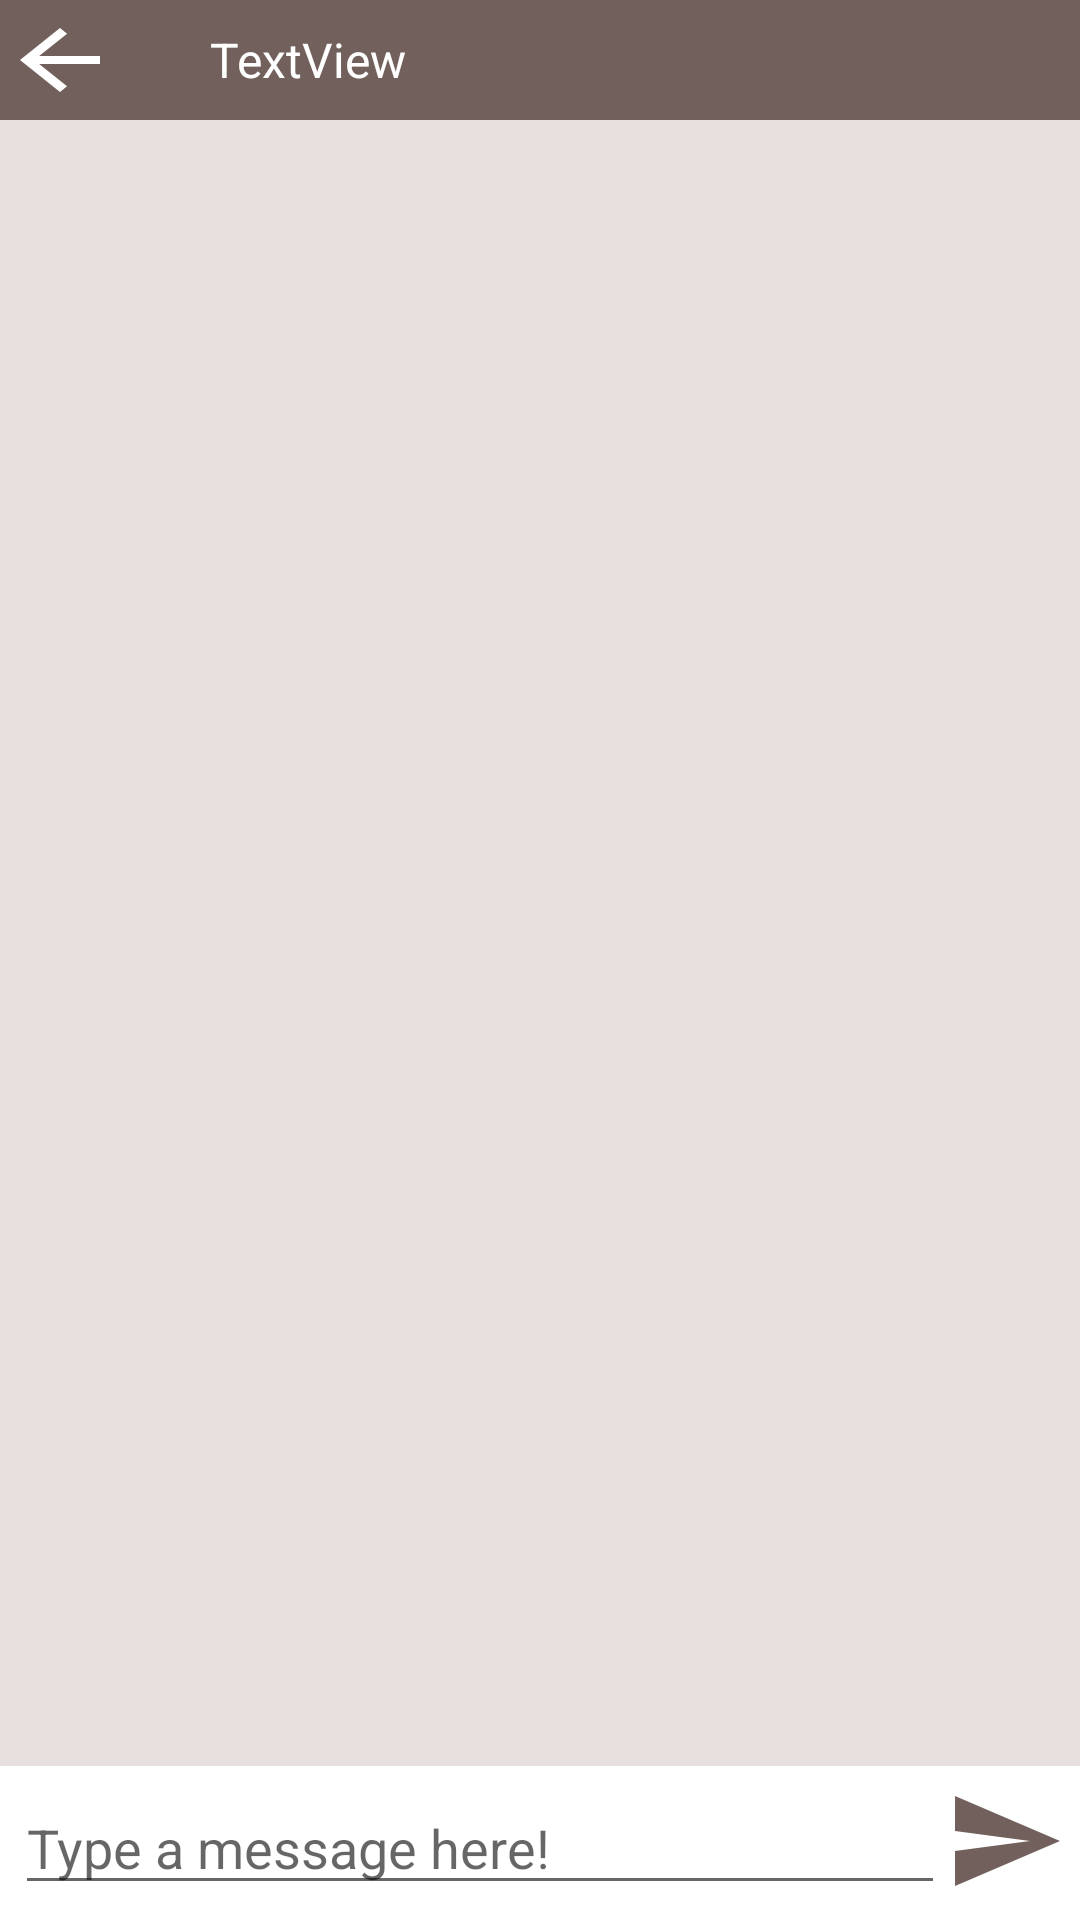

Named icons in this screenshot (1080w x 1920h) and their bounding boxes, (x1, y1, x2, y2):
arrow back: (20, 28, 100, 92)
send: (955, 1796, 1060, 1886)
